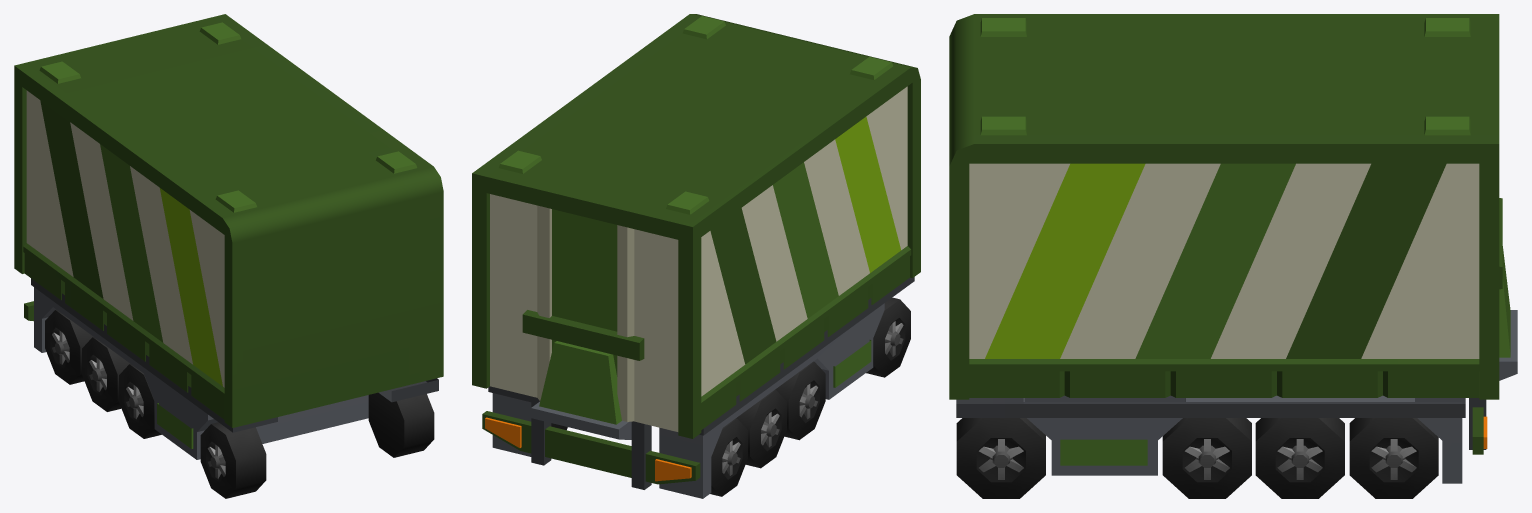
File: cargo_04_E_1.fbx
3 renders of one model, left to right at view 1: azimuth 30°, elevation 25°; view 2: azimuth 150°, elevation 25°; view 3: azimuth 270°, elevation 25°, orthographic. The views are drawn at different scales.
Parts seen in each view (by area): view 1: cargo_04_E_1; view 2: cargo_04_E_1; view 3: cargo_04_E_1.
Boxes of the visible parts, bbox=[...] form: cargo_04_E_1: bbox=[14, 14, 443, 498]; cargo_04_E_1: bbox=[472, 14, 920, 498]; cargo_04_E_1: bbox=[949, 14, 1517, 498].
Size of the model in its own units: 1335 by 1745 by 2468.
